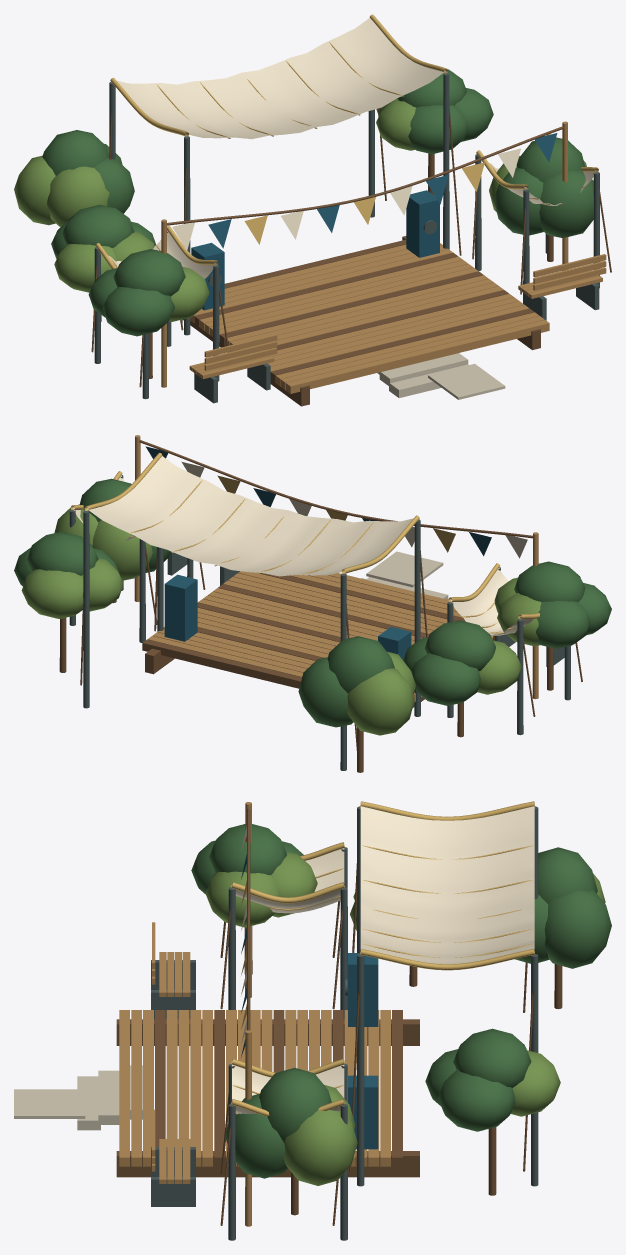
The model's file is activities.glb.
The picture shows the model from 3 angles, top to bottom: view 1: azimuth 30°, elevation 25°; view 2: azimuth 150°, elevation 25°; view 3: azimuth 270°, elevation 25°; orthographic projection. The views are drawn at different scales.
Visible parts, largest first — view 1: Activities_Festival_Courtyard_Wood_Teak, Activities_Festival_Courtyard_Activities_Leaf_Shade, Activities_Festival_Courtyard_Festival_Canvas, Activities_Festival_Courtyard_Wood_Endgrain, Activities_Festival_Courtyard_Activities_Foliage, Activities_Festival_Courtyard_Festival_Hardware, Activities_Festival_Courtyard_Festival_Navy, Activities_Festival_Courtyard_Festival_Ochre, Activities_Festival_Courtyard_Festival_Pavers; view 2: Activities_Festival_Courtyard_Festival_Canvas, Activities_Festival_Courtyard_Activities_Leaf_Shade, Activities_Festival_Courtyard_Wood_Teak, Activities_Festival_Courtyard_Activities_Foliage, Activities_Festival_Courtyard_Wood_Endgrain, Activities_Festival_Courtyard_Festival_Hardware, Activities_Festival_Courtyard_Festival_Navy, Activities_Festival_Courtyard_Festival_Ochre, Activities_Festival_Courtyard_Festival_Pavers; view 3: Activities_Festival_Courtyard_Festival_Canvas, Activities_Festival_Courtyard_Wood_Teak, Activities_Festival_Courtyard_Activities_Leaf_Shade, Activities_Festival_Courtyard_Wood_Endgrain, Activities_Festival_Courtyard_Festival_Hardware, Activities_Festival_Courtyard_Activities_Foliage, Activities_Festival_Courtyard_Festival_Ochre, Activities_Festival_Courtyard_Festival_Pavers, Activities_Festival_Courtyard_Festival_Navy.
Part boxes in pixels (left/top/right/bottom): Activities_Festival_Courtyard_Wood_Teak: left=161, top=121, right=606, bottom=393; Activities_Festival_Courtyard_Activities_Leaf_Shade: left=42, top=69, right=593, bottom=336; Activities_Festival_Courtyard_Festival_Canvas: left=108, top=18, right=596, bottom=278; Activities_Festival_Courtyard_Wood_Endgrain: left=91, top=104, right=611, bottom=406; Activities_Festival_Courtyard_Activities_Foliage: left=14, top=98, right=586, bottom=321; Activities_Festival_Courtyard_Festival_Hardware: left=94, top=73, right=599, bottom=403; Activities_Festival_Courtyard_Festival_Navy: left=191, top=133, right=557, bottom=310; Activities_Festival_Courtyard_Festival_Ochre: left=95, top=14, right=598, bottom=269; Activities_Festival_Courtyard_Festival_Pavers: left=377, top=353, right=505, bottom=399; Activities_Festival_Courtyard_Festival_Canvas: left=73, top=456, right=533, bottom=635; Activities_Festival_Courtyard_Activities_Leaf_Shade: left=14, top=478, right=611, bottom=727; Activities_Festival_Courtyard_Wood_Teak: left=134, top=435, right=538, bottom=702; Activities_Festival_Courtyard_Activities_Foliage: left=21, top=504, right=541, bottom=735; Activities_Festival_Courtyard_Wood_Endgrain: left=59, top=440, right=582, bottom=772; Activities_Festival_Courtyard_Festival_Hardware: left=69, top=475, right=570, bottom=770; Activities_Festival_Courtyard_Festival_Navy: left=145, top=446, right=491, bottom=660; Activities_Festival_Courtyard_Festival_Ochre: left=70, top=452, right=539, bottom=634; Activities_Festival_Courtyard_Festival_Pavers: left=361, top=551, right=448, bottom=599; Activities_Festival_Courtyard_Festival_Canvas: left=232, top=804, right=534, bottom=1113; Activities_Festival_Courtyard_Wood_Teak: left=119, top=802, right=390, bottom=1226; Activities_Festival_Courtyard_Activities_Leaf_Shade: left=191, top=824, right=611, bottom=1178; Activities_Festival_Courtyard_Wood_Endgrain: left=116, top=808, right=562, bottom=1225; Activities_Festival_Courtyard_Festival_Hardware: left=151, top=806, right=538, bottom=1240; Activities_Festival_Courtyard_Activities_Foliage: left=205, top=852, right=605, bottom=1185; Activities_Festival_Courtyard_Festival_Ochre: left=231, top=801, right=534, bottom=1116; Activities_Festival_Courtyard_Festival_Pavers: left=14, top=1065, right=142, bottom=1130; Activities_Festival_Courtyard_Festival_Navy: left=241, top=854, right=378, bottom=1149.
Bounding box in the file's own units: 5.29 × 1.97 × 4.54.
